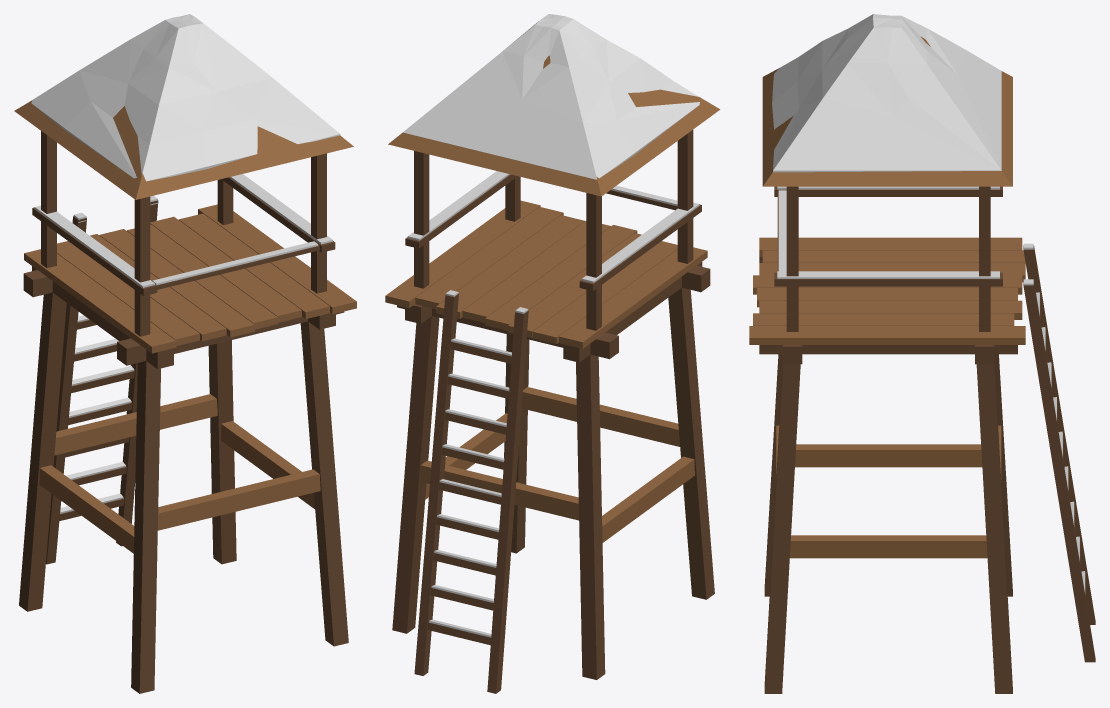
The model's file is GuardTower_1_lvl_snow_mat.fbx.
3 renders of one model, left to right at view 1: azimuth 30°, elevation 25°; view 2: azimuth 150°, elevation 25°; view 3: azimuth 270°, elevation 25°, orthographic. The views are drawn at different scales.
Visible parts, largest first — view 1: GuardTower_1_lvl_snow_mat; view 2: GuardTower_1_lvl_snow_mat; view 3: GuardTower_1_lvl_snow_mat.
Boxes of the visible parts, x1=… form: GuardTower_1_lvl_snow_mat: x1=14, y1=14, x2=356, y2=693; GuardTower_1_lvl_snow_mat: x1=385, y1=14, x2=720, y2=693; GuardTower_1_lvl_snow_mat: x1=749, y1=14, x2=1095, y2=693.
Size of the model in its own units: 1.47 by 3.88 by 1.96.
